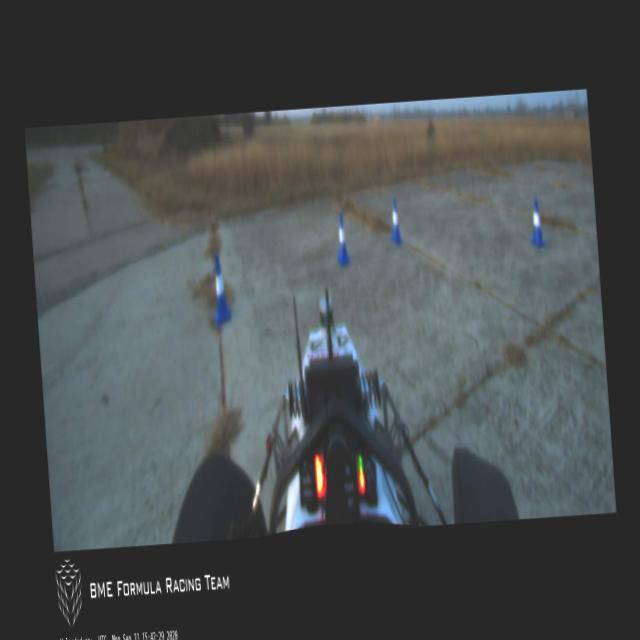blue_cone: (210, 256, 232, 326), (332, 212, 350, 266), (528, 196, 546, 246), (387, 197, 402, 244)
